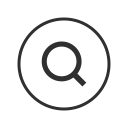searchIcon: (41, 40, 86, 87)
